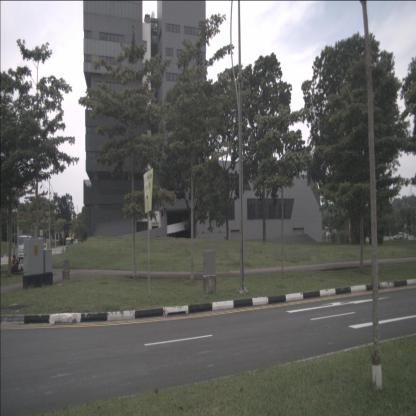human-pedestrian-adult: (11, 254, 20, 273)
vehicle-car: (393, 231, 406, 241)
vehicle-truck: (16, 235, 42, 262)
